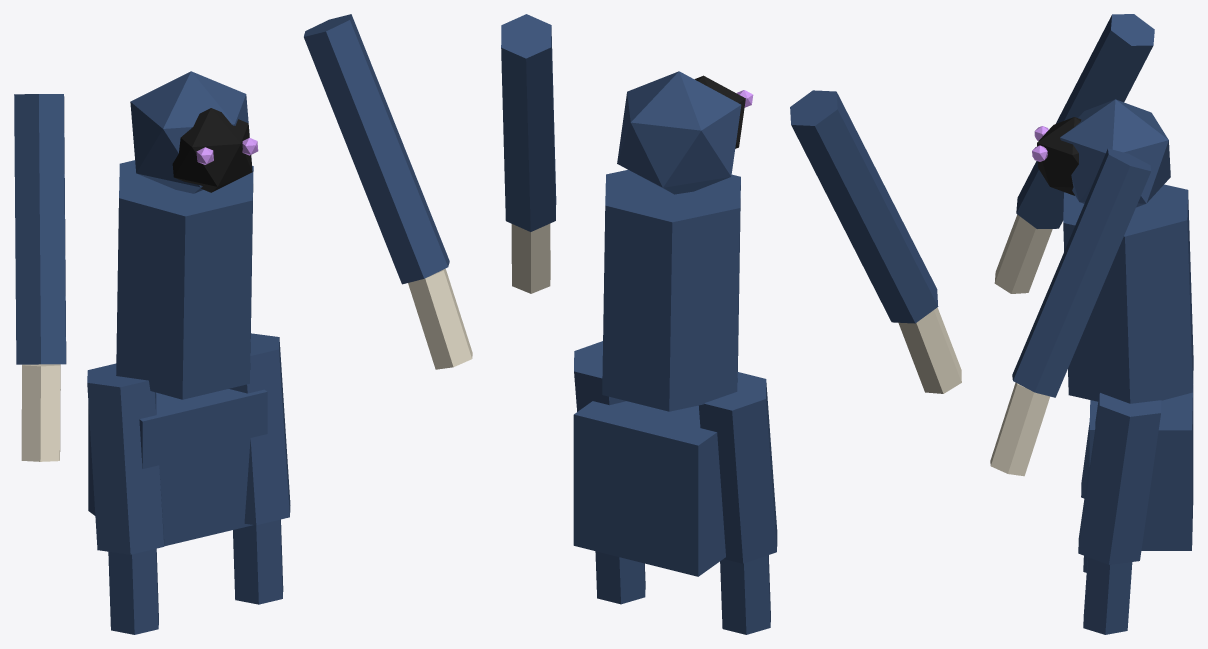
Rendered from npcpose_wraith_idle_06.glb.
3 renders of one model, left to right at view 1: azimuth 30°, elevation 25°; view 2: azimuth 150°, elevation 25°; view 3: azimuth 270°, elevation 25°, orthographic. The views are drawn at different scales.
Visible parts, largest first — view 1: npcpose; view 2: npcpose; view 3: npcpose.
Boxes of the visible parts, x1=… form: npcpose: x1=14, y1=14, x2=472, y2=634; npcpose: x1=501, y1=14, x2=961, y2=634; npcpose: x1=990, y1=14, x2=1193, y2=634.
Size of the model in its own units: 0.9387 by 1.1 by 0.397.
